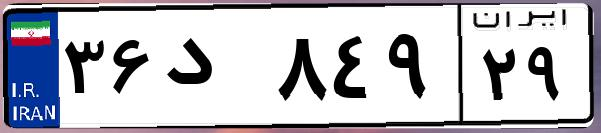2: (475, 38, 525, 113)
3: (57, 26, 110, 100)
4: (330, 28, 385, 110)
6: (110, 28, 158, 98)
8: (270, 28, 330, 110)
9: (385, 28, 445, 110), (525, 38, 570, 115)
د: (158, 20, 270, 120)
